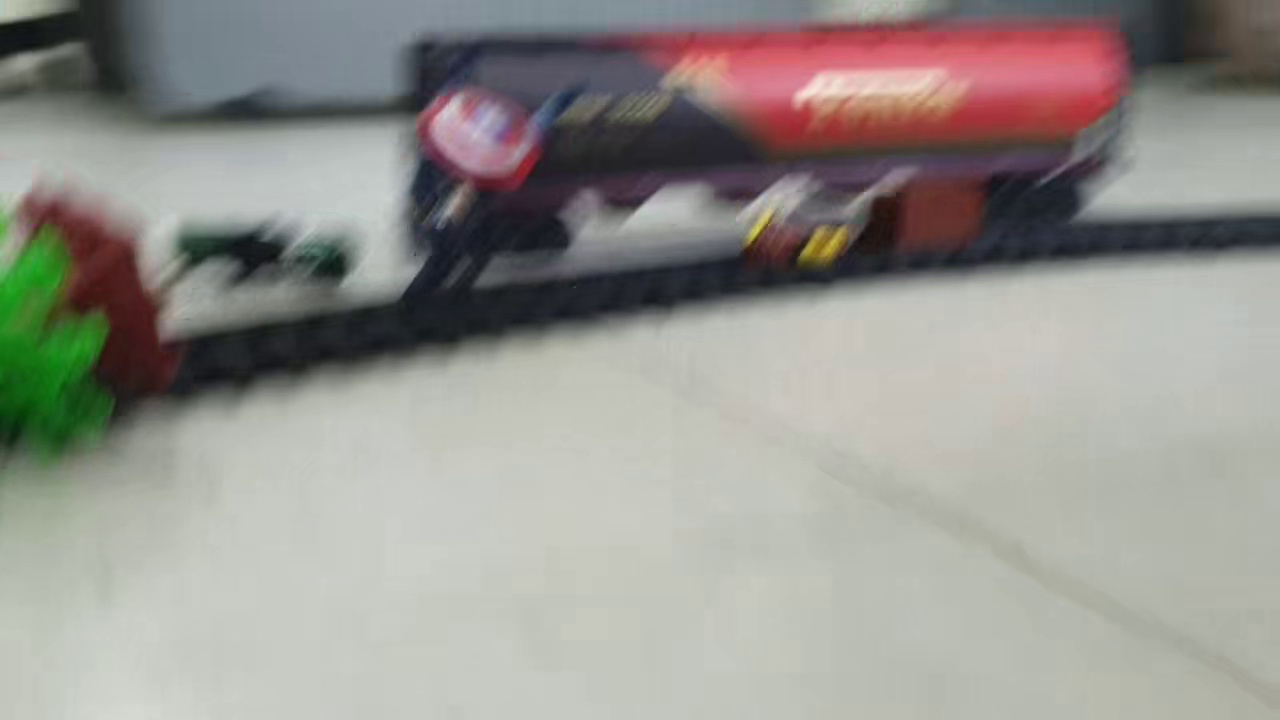box: (872, 179, 994, 253)
people: (393, 68, 585, 310), (173, 224, 352, 293), (739, 206, 856, 265)
tree: (1, 186, 160, 454)
